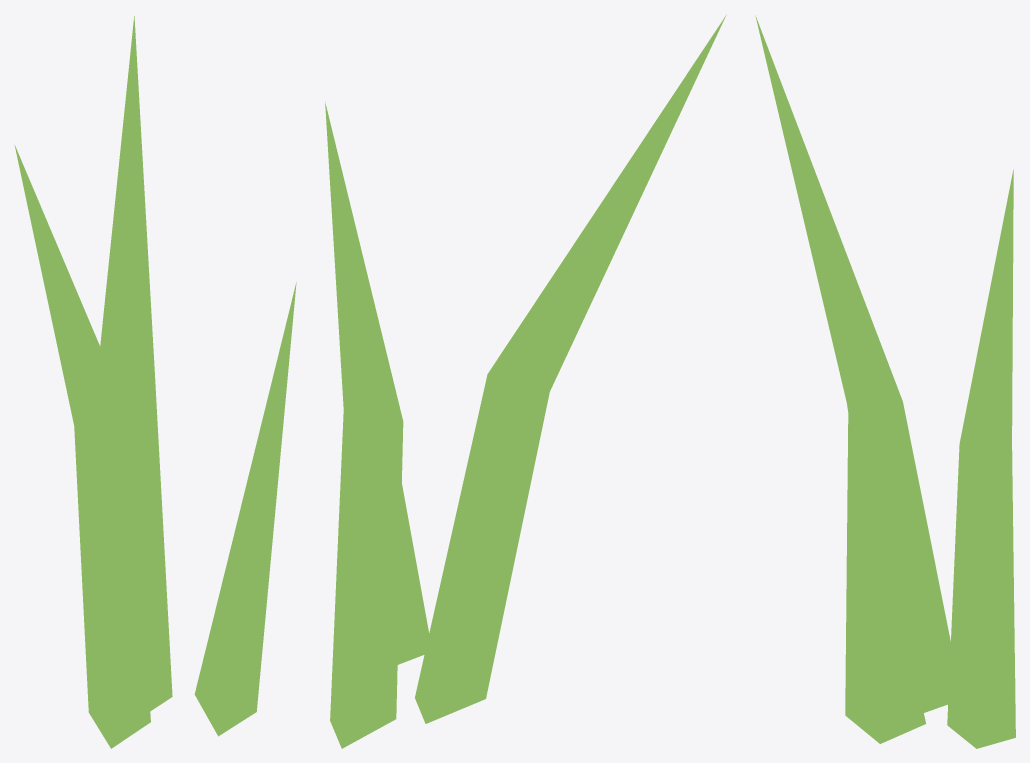
Rendered from Grass3D_a_03.fbx.
The picture shows the model from 3 angles, left to right: view 1: azimuth 30°, elevation 25°; view 2: azimuth 150°, elevation 25°; view 3: azimuth 270°, elevation 25°; orthographic projection. The views are drawn at different scales.
Visible parts, largest first — view 1: Grass3D_a_03; view 2: Grass3D_a_03; view 3: Grass3D_a_03.
Boxes of the visible parts, x1=… form: Grass3D_a_03: x1=14, y1=16, x2=296, y2=748; Grass3D_a_03: x1=325, y1=14, x2=726, y2=748; Grass3D_a_03: x1=755, y1=15, x2=1015, y2=748.
Size of the model in its own units: 0.2869 by 0.5877 by 0.2247.
